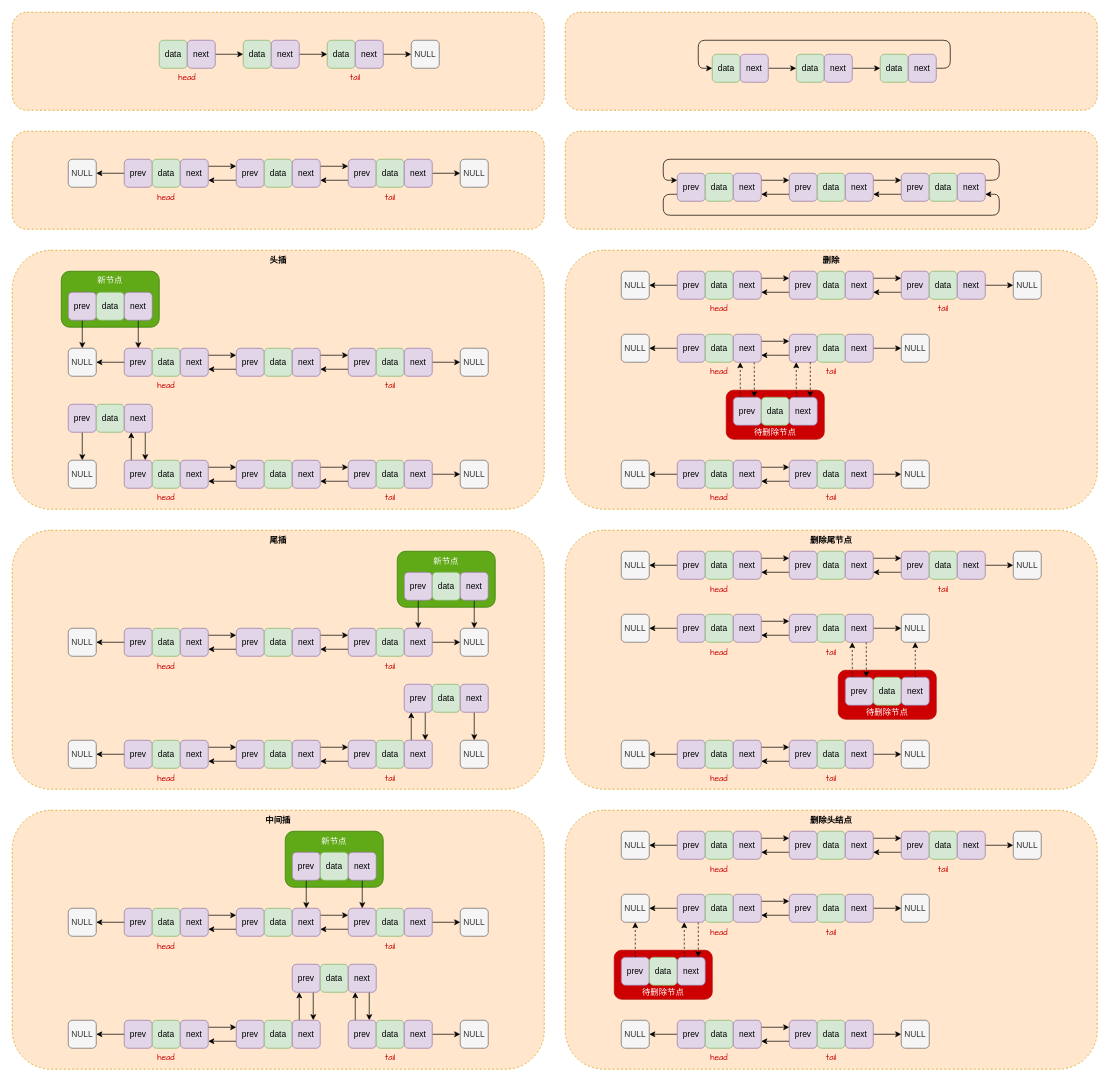
The diagram is 1110 pixels wide and 1082 high, and some of its shapes have lost their labels. Each missing label, with the box of its shape:
单向循环链表: (565, 12, 1097, 110)
单向链表: (12, 12, 544, 110)
双向循环链表: (565, 131, 1097, 229)
双向链表: (12, 131, 544, 229)
